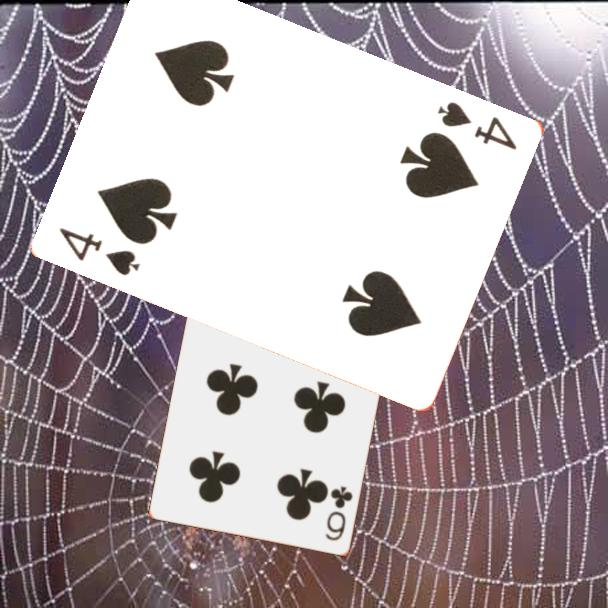c06: (322, 483, 356, 544)
s04: (56, 223, 144, 279), (434, 97, 521, 153)
